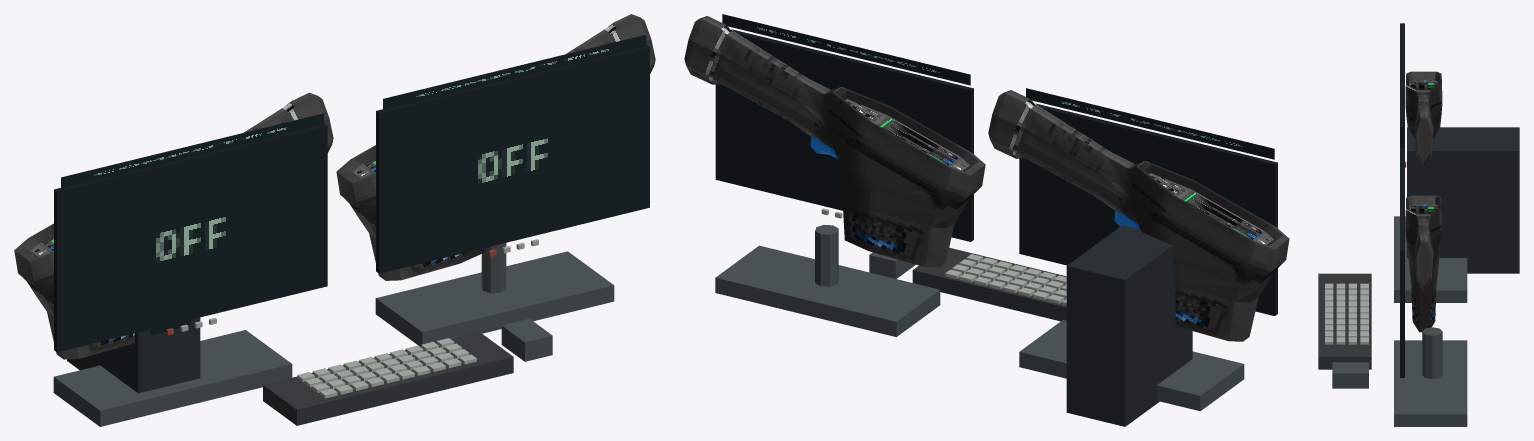
File: blender_computer_3.glb
3 views of the same model, side by side, from view 1: azimuth 30°, elevation 25°; view 2: azimuth 150°, elevation 25°; view 3: azimuth 270°, elevation 25° (orthographic). The views are drawn at different scales.
Parts seen in each view (by area): view 1: blender_computer_3; view 2: blender_computer_3; view 3: blender_computer_3.
Part boxes in pixels (x1,y1,x2,y2): blender_computer_3: [14, 14, 655, 426]; blender_computer_3: [684, 14, 1289, 426]; blender_computer_3: [1318, 23, 1519, 426].
Bounding box in the file's own units: 1.02 × 0.41 × 0.3575.
1 material, 1 textured.
